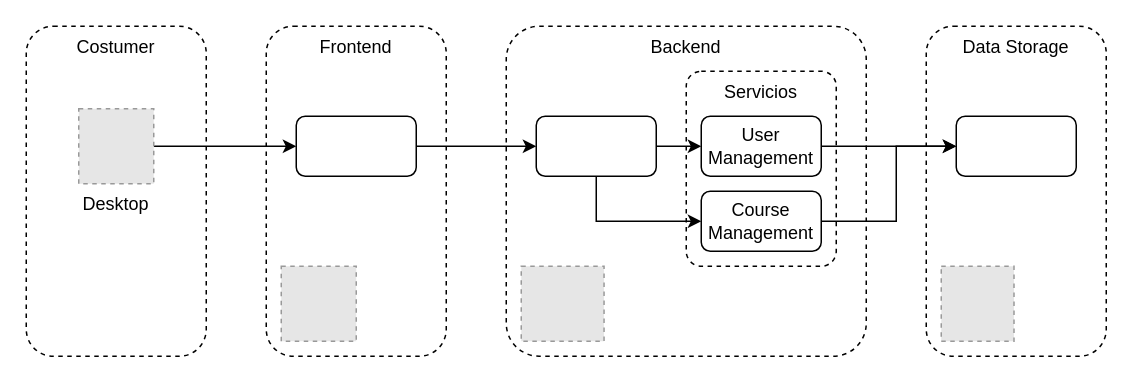
The diagram is 1133 pixels wide and 383 high, and some of its shapes have lost their labels. Grey dashed boxes stand in for pictures. The centre of each missing label's shape, as x and y in pixels:
"API Gateway" belongs at (x=595, y=145).
"Relational Database" belongs at (x=1015, y=145).
"Web Application" belongs at (x=355, y=145).
